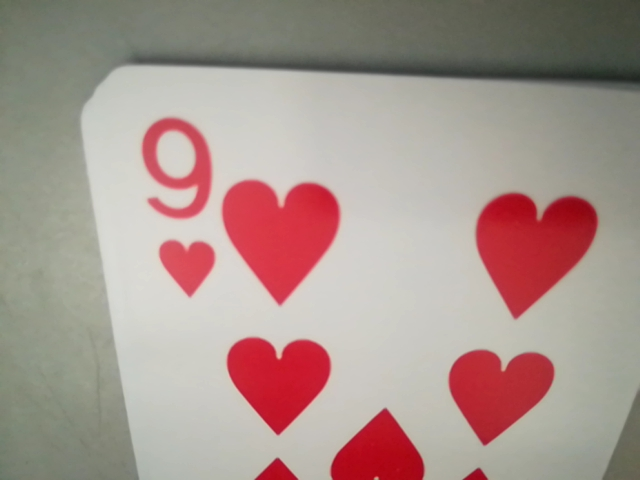hx 9: (127, 86, 222, 305)
